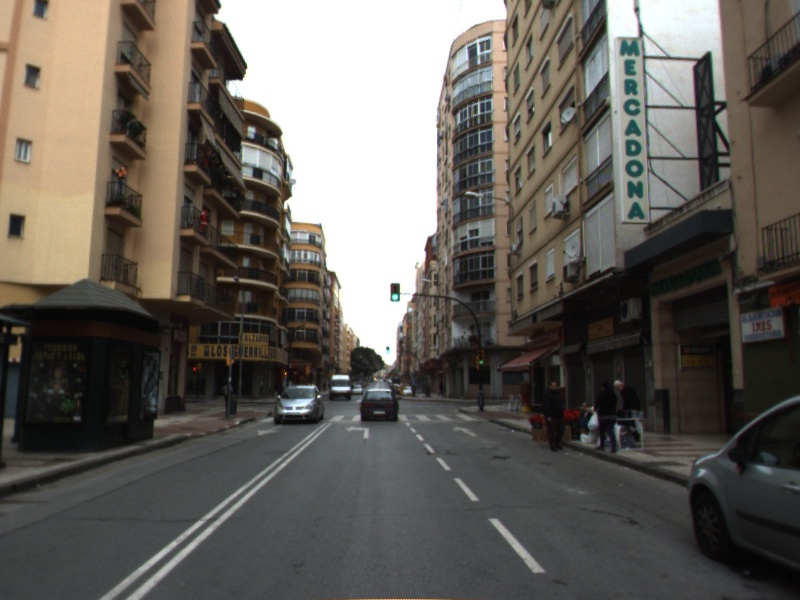LEFT: (344, 424, 371, 440)
STRAIGHT: (450, 424, 479, 438)
